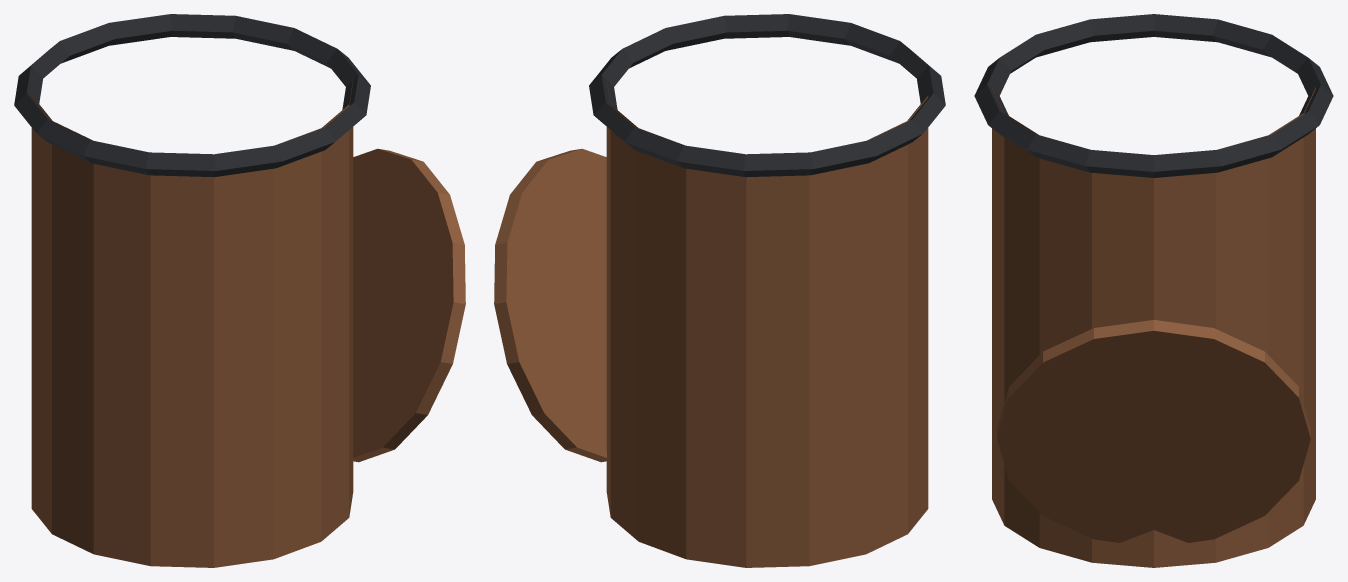
Rendered from empty_ink_barrel.glb.
3 renders of one model, left to right at view 1: azimuth 30°, elevation 25°; view 2: azimuth 150°, elevation 25°; view 3: azimuth 270°, elevation 25°, orthographic.
Visible parts, largest first — view 1: drum_barrel_rust, lid_barrel_rust, hoop_press_dark; view 2: drum_barrel_rust, lid_barrel_rust, hoop_press_dark; view 3: drum_barrel_rust, lid_barrel_rust, hoop_press_dark.
Boxes of the visible parts, x1,y1,x2,y2 form: drum_barrel_rust: (31,79,353,567); lid_barrel_rust: (353,148,465,462); hoop_press_dark: (14,14,370,177); drum_barrel_rust: (606,79,928,567); lid_barrel_rust: (494,148,606,462); hoop_press_dark: (589,14,945,177); drum_barrel_rust: (992,87,1315,567); lid_barrel_rust: (997,320,1310,542); hoop_press_dark: (974,14,1333,177).
Bounding box in the file's own units: 0.8813 × 0.905 × 0.71.
